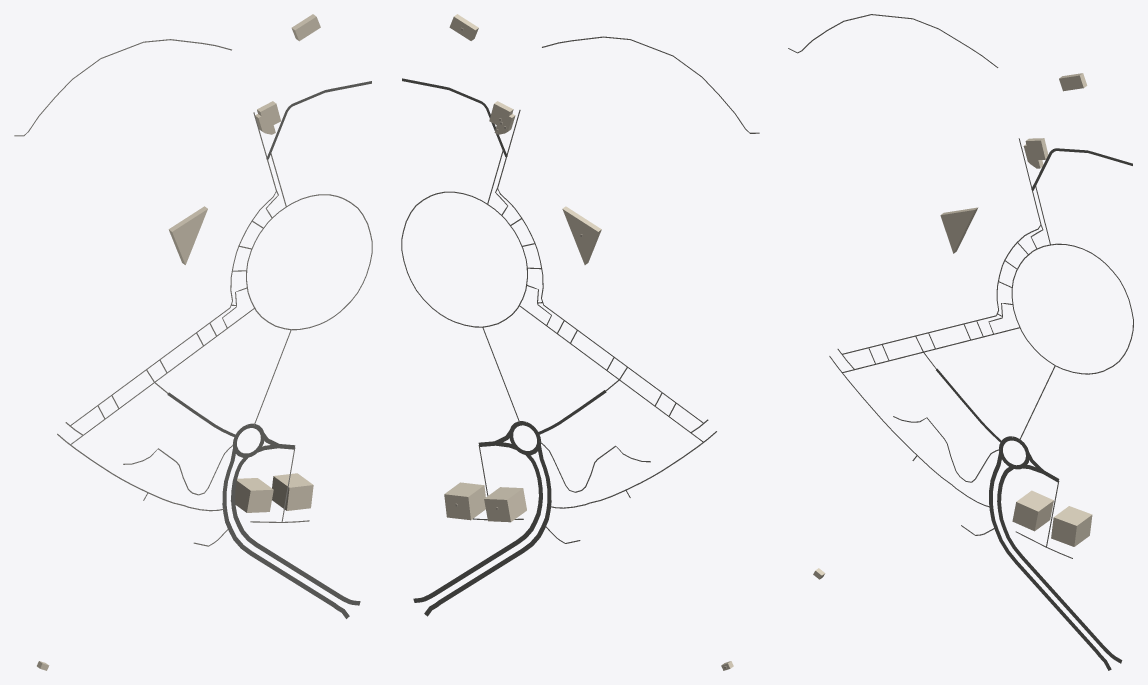
Rendered from historic-palestine-04_23_3462_3179.glb.
3 renders of one model, left to right at view 1: azimuth 30°, elevation 25°; view 2: azimuth 150°, elevation 25°; view 3: azimuth 330°, elevation 25°, orthographic. The views are drawn at different scales.
Parts seen in each view (by area): view 1: Building_.003, Road ואלוס.001, Building_.002, Road ואלוס, Building_.004, Road .006, Road .014, Building_; view 2: Building_.003, Building_.002, Road ואלוס.001, Road ואלוס, Building_.004, Road .006, Road .014, Building_; view 3: Building_.003, Building_.002, Road ואלוס.001, Road ואלוס, Building_.004, Road .006, Road .014, Building_.
Part boxes in pixels (x1,y1,x2,y2): Building_.003: (272,473,313,510); Road ואלוס.001: (222,447,349,618); Building_.002: (230,478,273,512); Road ואלוס: (231,454,360,605); Building_.004: (168,206,207,264); Road .006: (246,194,372,330); Road .014: (70,112,276,425); Building_: (255,101,280,134); Building_.003: (444,482,485,520); Building_.002: (484,487,526,522); Road ואלוס.001: (424,444,551,616); Road ואלוס: (413,452,542,602); Building_.004: (562,206,601,264); Road .006: (401,191,527,327); Road .014: (497,110,703,423); Building_: (489,101,515,134); Building_.003: (1051,506,1092,546); Building_.002: (1012,490,1053,531); Road ואלוס.001: (989,452,1111,670); Road ואלוס: (997,466,1122,663); Building_.004: (940,207,978,253); Road .006: (1011,243,1133,374); Road .014: (842,138,1041,354); Building_: (1023,138,1048,168).
Size of the model in its own units: 437 by 731 by 35.3.
